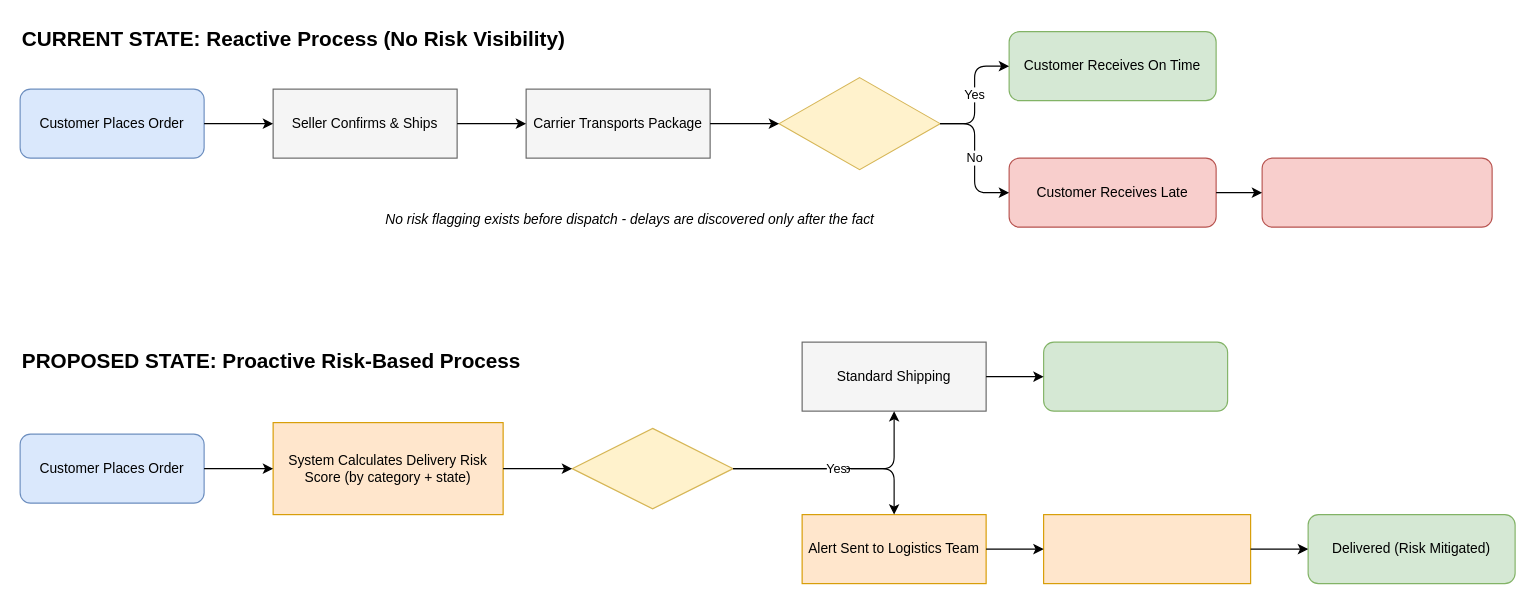
Some shapes in this 1535 by 604 pixel diagram are drawn without their labels. The shapes that lost their labels are listed below. From the top down, each one's centre as x and y in pixels, then its label:
At pixel 859 123: "Delivered On Time?".
At pixel 1376 192: "Bad Review (avg 2.57★) / Churn Risk".
At pixel 1135 376: "Delivered On Time".
At pixel 652 468: "High Risk?".
At pixel 1146 548: "Expedited Handling + Proactive Customer Update".
